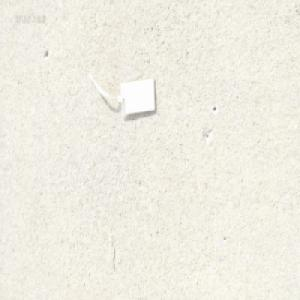LuggageTag: (84, 70, 156, 119)
